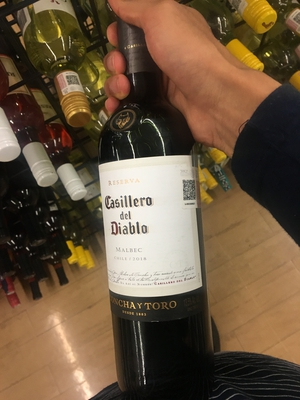casillero del diablo malbec: (92, 32, 222, 400)
